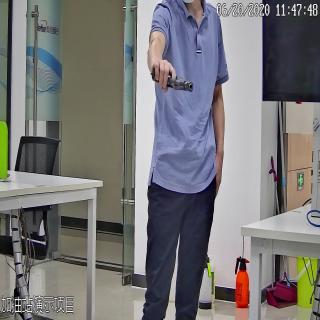gun: (149, 58, 194, 94)
